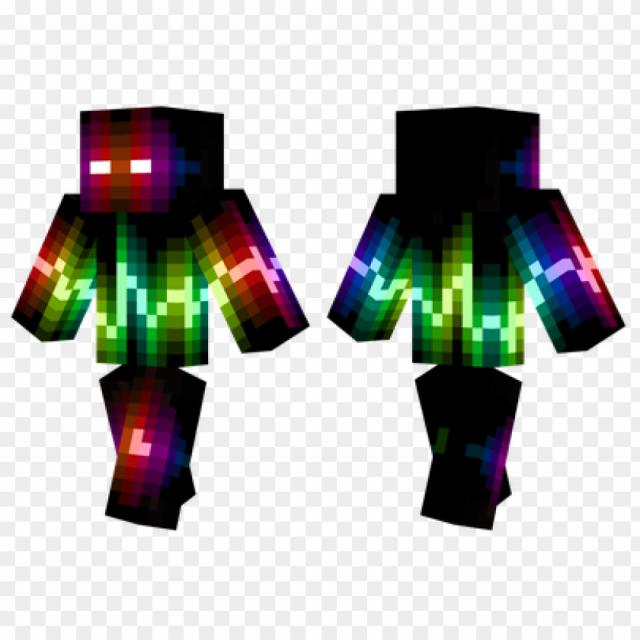Player: (11, 109, 311, 534), (335, 108, 616, 532)
